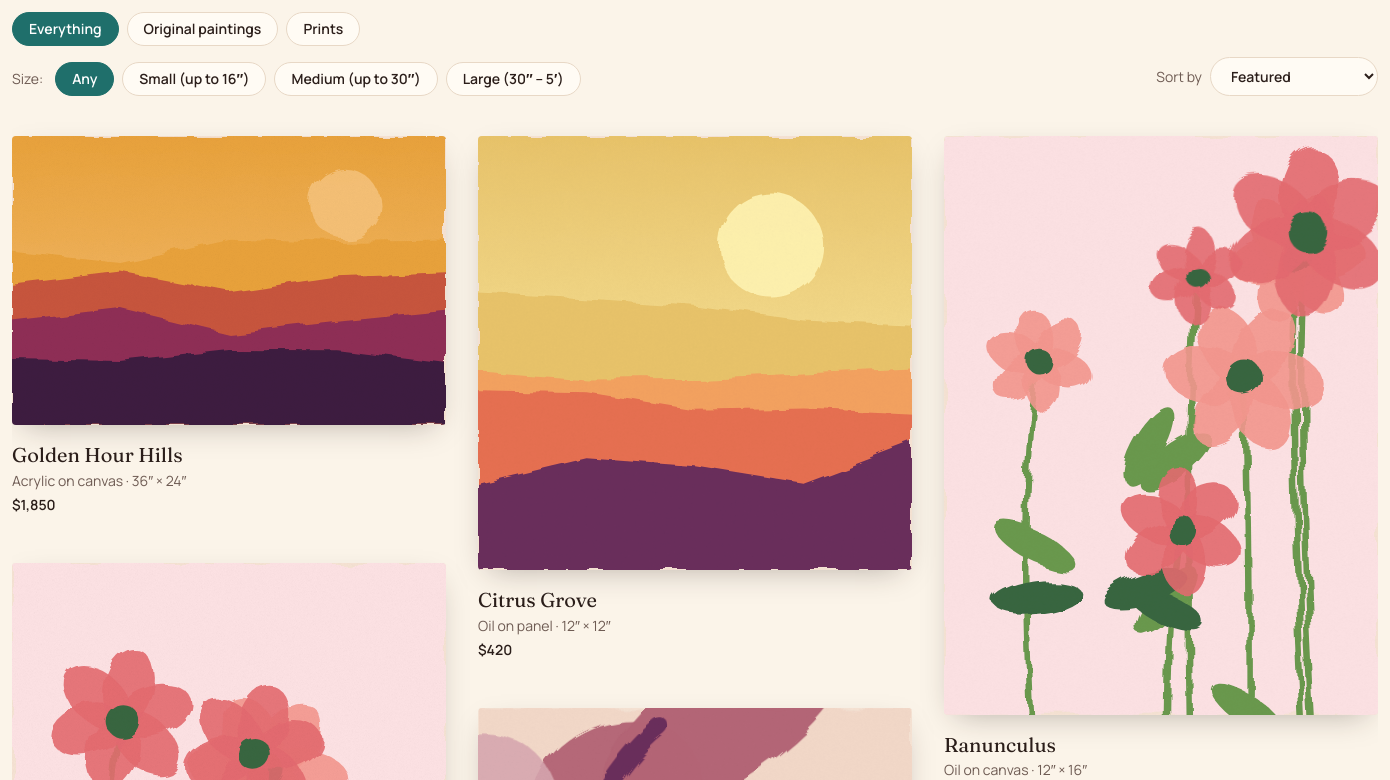
it: ShopBrowser › filters by size: Large (30″ – 5′)
The image size is (1390, 780).
Click the button "Large (30″ – 5′)" at (513, 79), box [446,62,581,96]
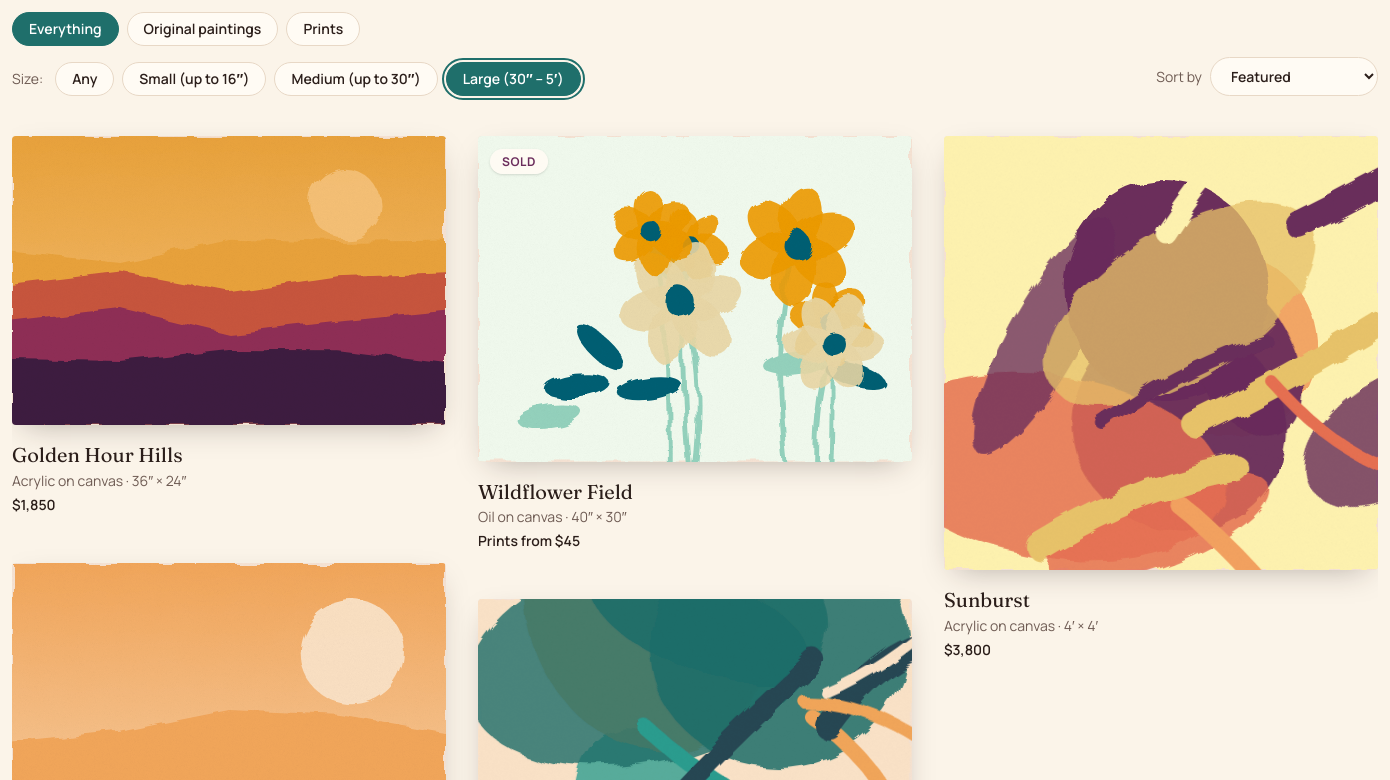
Expected: the button "Large (30″ – 5′)" is pressed, [446,62,581,96]
Click the button "Any" at (85, 79), box [55,62,114,96]
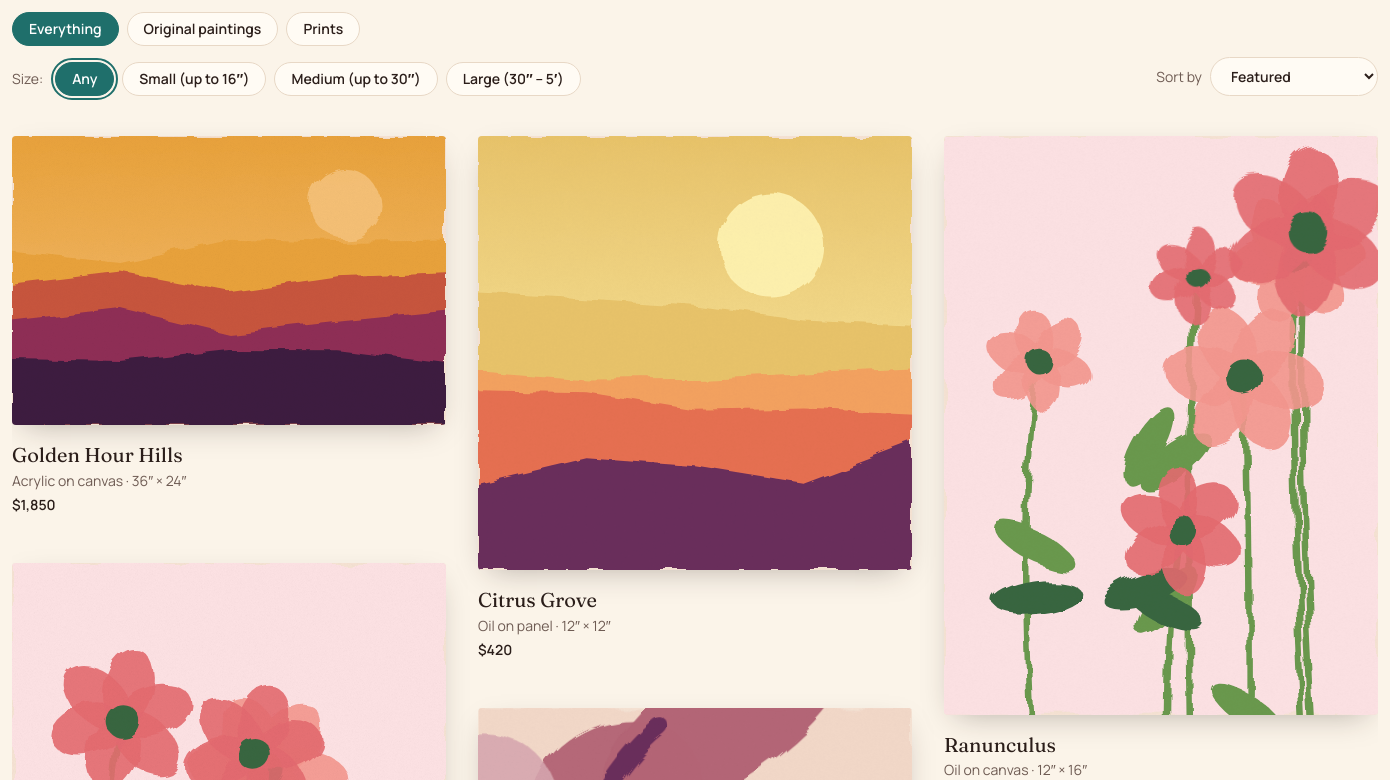
Expected: the number of headings is 12
